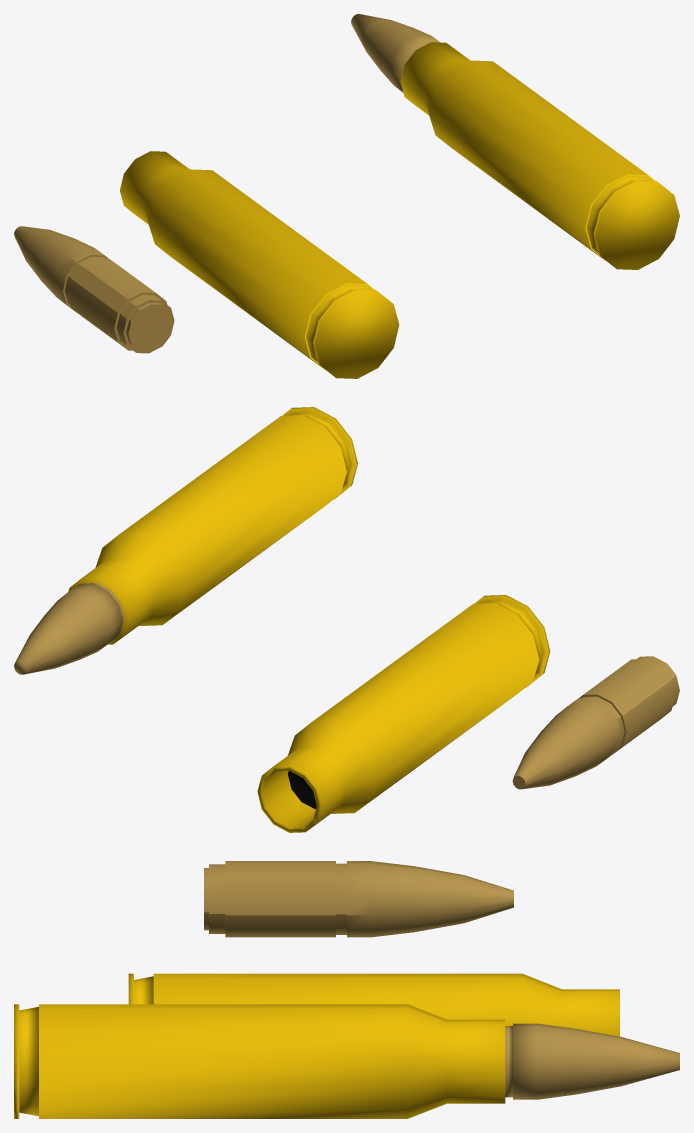
File: 556Ammo.fbx
The picture shows the model from 3 angles, top to bottom: view 1: azimuth 30°, elevation 25°; view 2: azimuth 150°, elevation 25°; view 3: azimuth 270°, elevation 25°; orthographic projection. The views are drawn at different scales.
Parts seen in each view (by area): view 1: 5.56 Bullet, 5.56 Shell, 5.56 Top; view 2: 5.56 Bullet, 5.56 Shell, 5.56 Top; view 3: 5.56 Bullet, 5.56 Top, 5.56 Shell.
Part boxes in pixels (x1,y1,x2,y2): 5.56 Bullet: [351, 14, 679, 269]; 5.56 Shell: [119, 151, 399, 378]; 5.56 Top: [14, 226, 174, 353]; 5.56 Bullet: [14, 407, 357, 674]; 5.56 Shell: [257, 595, 550, 832]; 5.56 Top: [512, 656, 679, 789]; 5.56 Bullet: [14, 1004, 679, 1118]; 5.56 Top: [204, 861, 513, 937]; 5.56 Shell: [128, 973, 619, 1036].
Bounding box in the file's own units: 11.07 × 3.9 × 11.29.
